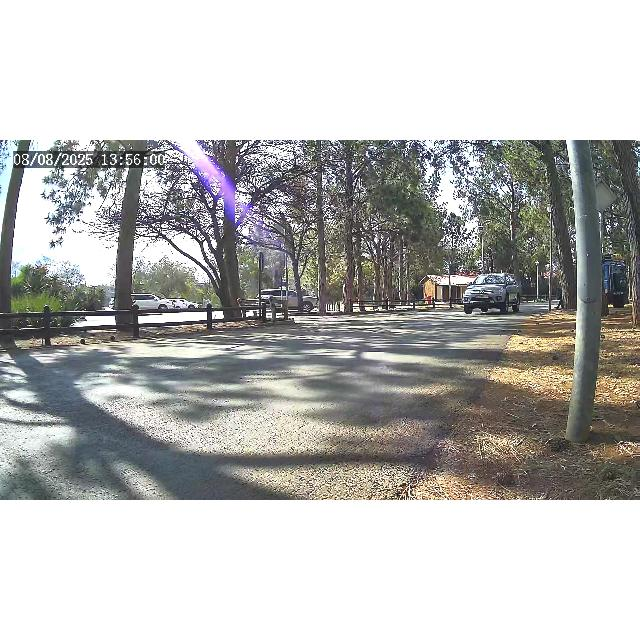car: (462, 274, 520, 314), (254, 288, 318, 312)
